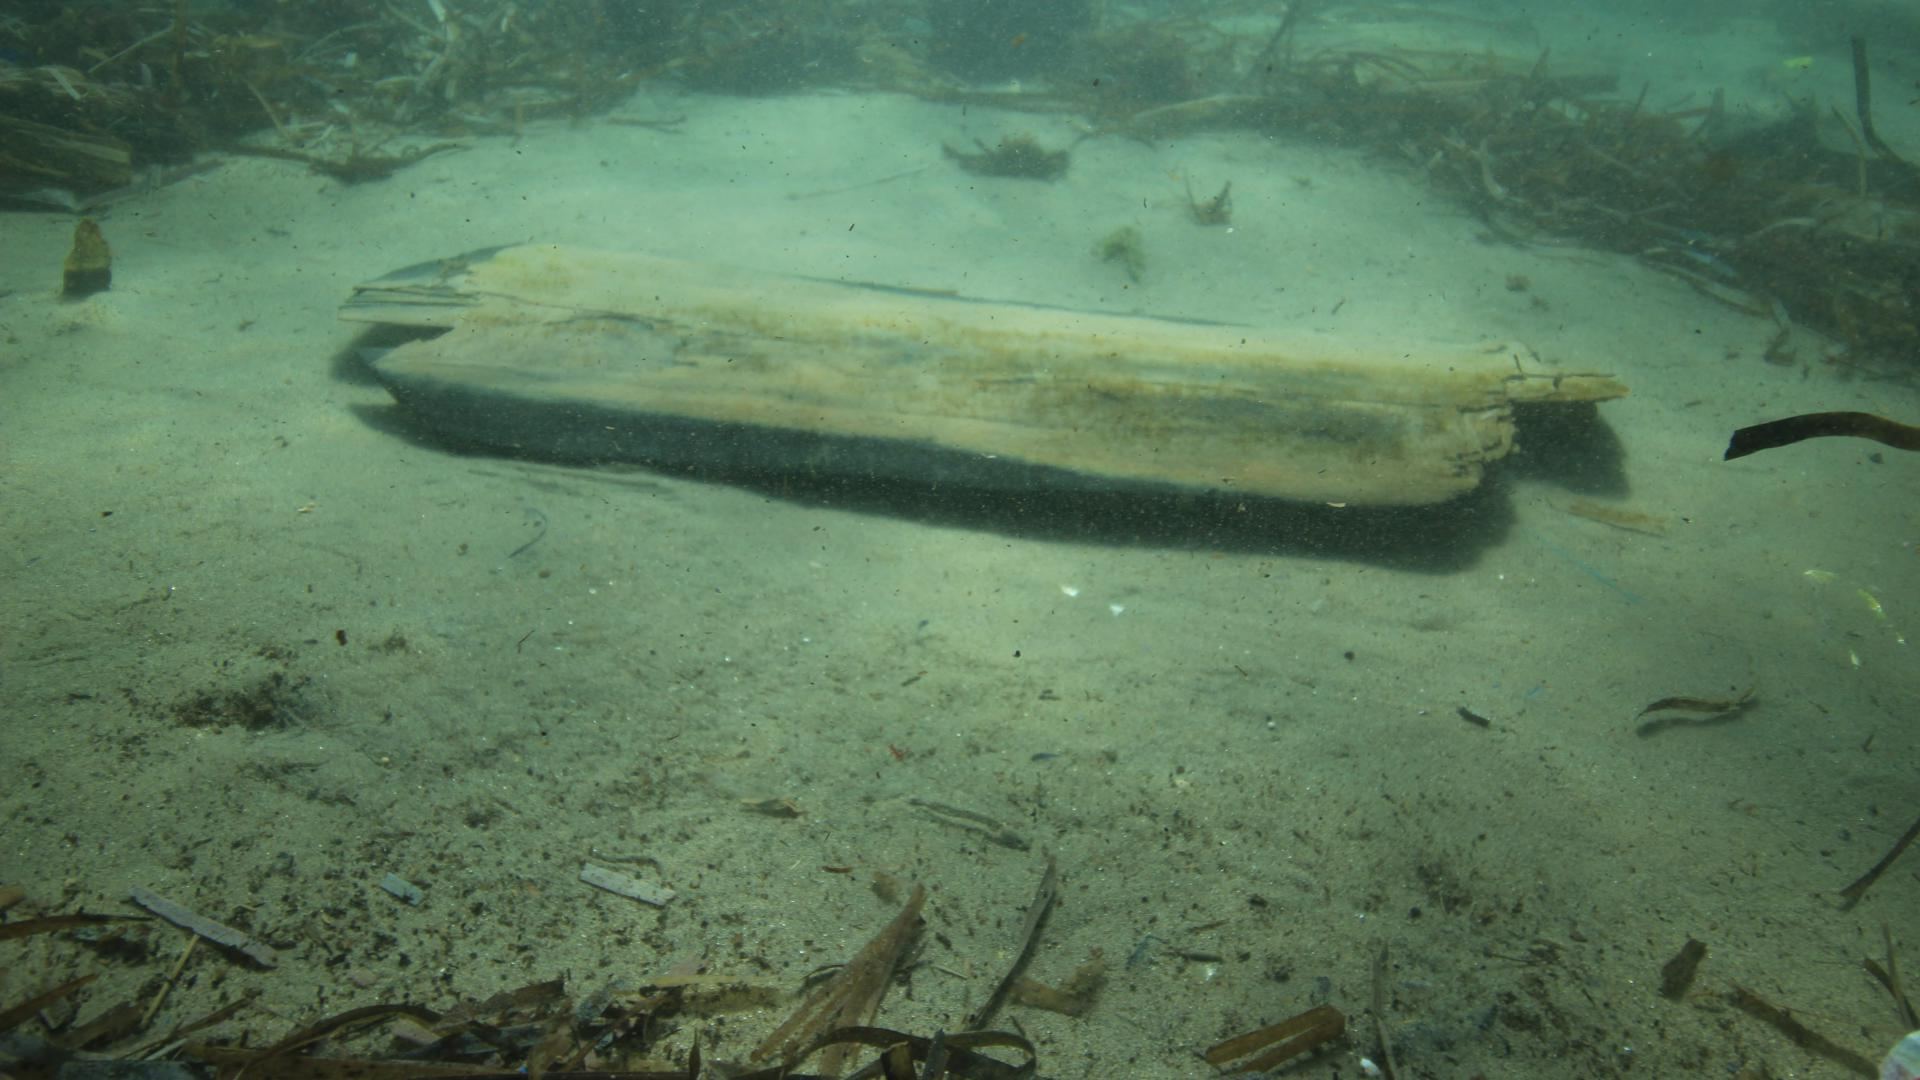wood: (334, 237, 1630, 506)
